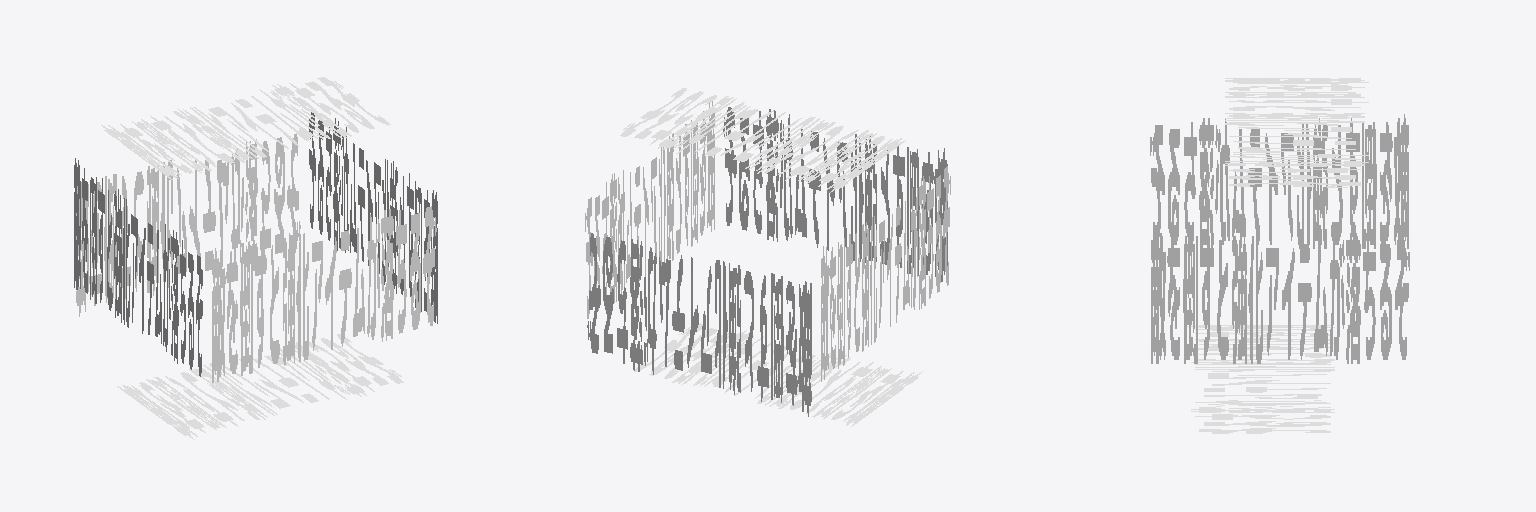
3 renders of one model, left to right at view 1: azimuth 30°, elevation 25°; view 2: azimuth 150°, elevation 25°; view 3: azimuth 270°, elevation 25°, orthographic.
Visible parts, largest first — view 1: DropLogo; view 2: DropLogo; view 3: DropLogo.
Boxes of the visible parts, box(x1,y1,x2,y2) form: DropLogo: box(74, 77, 437, 439); DropLogo: box(585, 88, 950, 426); DropLogo: box(1150, 78, 1409, 433).
Size of the model in its own units: 2 by 2 by 2.
1 materials, 1 textured.